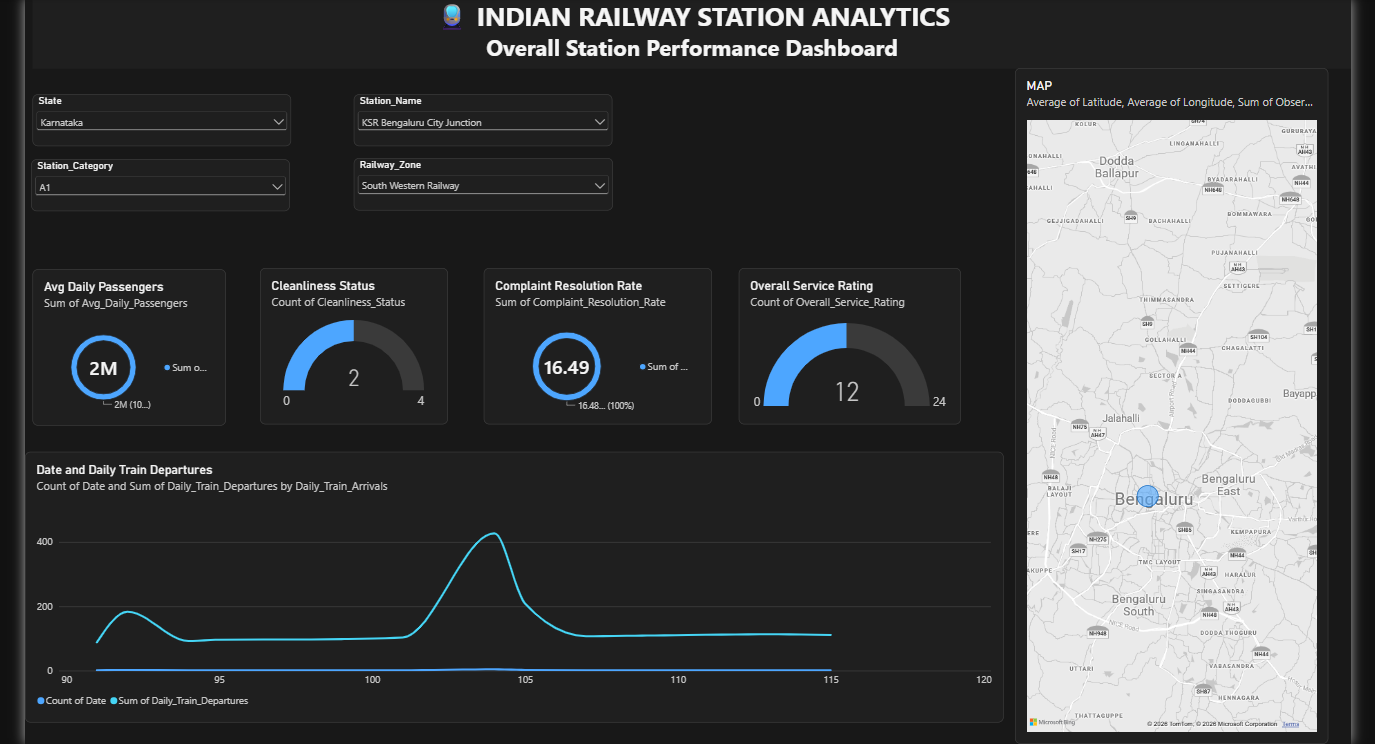

What the dashboard file says about the page in this screenshot:
{"tool":"powerbi","page":{"name":"Overall Dashboard","canvas":[1920,1080],"ordinal":0},"visuals":[{"type":"textbox","box":[10.2,0,1909.8,102.1],"z":0},{"type":"slicer","fields":{"Values":["Station_Monthly_Data.State"]},"box":[10.8,138.9,374.7,74.9],"z":1000},{"type":"slicer","fields":{"Values":["Station_Monthly_Data.Station_Name"]},"box":[475.4,138.9,374.7,74.9],"z":2000},{"type":"slicer","fields":{"Values":["Station_Monthly_Data.Railway_Zone"]},"box":[475.4,231.5,375,75.6],"z":3000},{"type":"slicer","fields":{"Values":["Station_Monthly_Data.Station_Category"]},"box":[9.3,233.1,374.7,74.9],"z":4000},{"type":"lineChart","title":"Date and Daily Train Departures","fields":{"Category":["Station_Monthly_Data.Daily_Train_Arrivals"],"Y":["CountNonNull(Station_Monthly_Data.Date)","Sum(Station_Monthly_Data.Daily_Train_Departures)"]},"box":[0,656.4,1416.8,392],"z":5000},{"type":"map","title":"MAP","fields":{"Category":["Station_Monthly_Data.City","Station_Monthly_Data.State"],"Size":["Sum(Station_Monthly_Data.Observation_Month)"],"X":["Avg(Station_Monthly_Data.Longitude)"],"Y":["Avg(Station_Monthly_Data.Latitude)"]},"box":[1433.8,101.9,453.8,978.5],"z":6000},{"type":"donutChart","title":"Avg Daily Passengers","fields":{"Y":["Sum(Station_Monthly_Data.Avg_Daily_Passengers)"]},"box":[10,392,280,226],"z":7000},{"type":"gauge","title":"Cleanliness Status","fields":{"Y":["Count(Station_Monthly_Data.Cleanliness_Status)"]},"box":[340,391.7,271.7,226.7],"z":8000},{"type":"donutChart","title":"Complaint Resolution Rate","fields":{"Y":["Sum(Station_Monthly_Data.Complaint_Resolution_Rate)"]},"box":[663.3,391.7,330,226.7],"z":9000},{"type":"gauge","title":"Overall Service Rating","fields":{"Y":["Count(Station_Monthly_Data.Overall_Service_Rating)"]},"box":[1033.3,391.7,321.7,226.7],"z":10000}]}

Visuals, with their boxes on the page's 1920x1080 design canvas (x1, y1, x2, y2). These are canvas units, not pixel positions in the 1375x744 screenshot, which may show the page scaled, cropped or inside an application window:
textbox: rect(10, 0, 1920, 102)
slicer - Station_Monthly_Data.State: rect(11, 139, 386, 214)
slicer - Station_Monthly_Data.Station_Name: rect(475, 139, 850, 214)
slicer - Station_Monthly_Data.Railway_Zone: rect(475, 232, 850, 307)
slicer - Station_Monthly_Data.Station_Category: rect(9, 233, 384, 308)
"Date and Daily Train Departures" lineChart: rect(0, 656, 1417, 1048)
"MAP" map: rect(1434, 102, 1888, 1080)
"Avg Daily Passengers" donutChart: rect(10, 392, 290, 618)
"Cleanliness Status" gauge: rect(340, 392, 612, 618)
"Complaint Resolution Rate" donutChart: rect(663, 392, 993, 618)
"Overall Service Rating" gauge: rect(1033, 392, 1355, 618)
